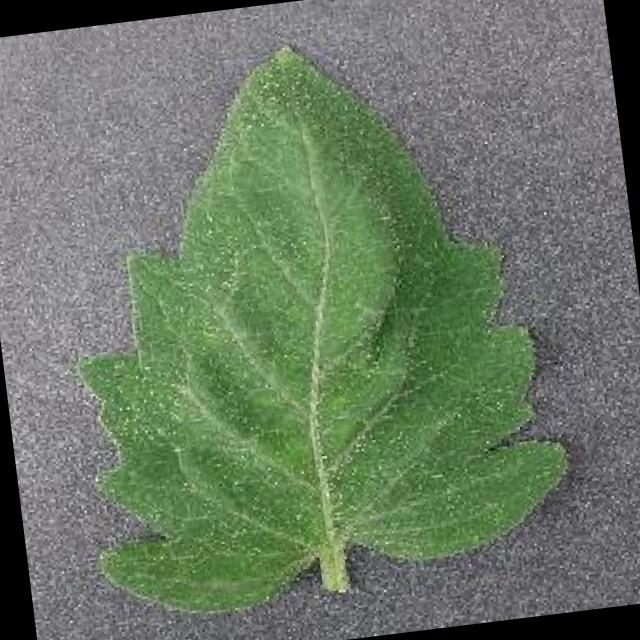Tomato_Healthy: (32, 1, 598, 628)
